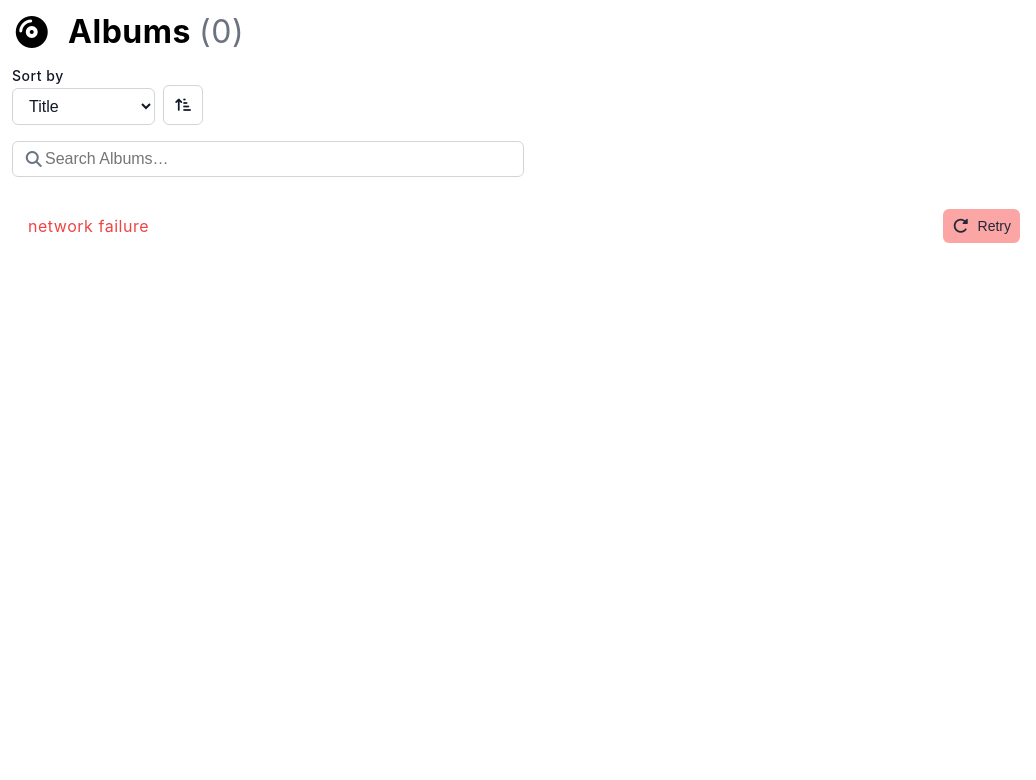
Test: AlbumsView › shows an error banner with a retry button
The image size is (1036, 780).
Click the button named "Ascending" at (183, 105), box [163,85,203,125]
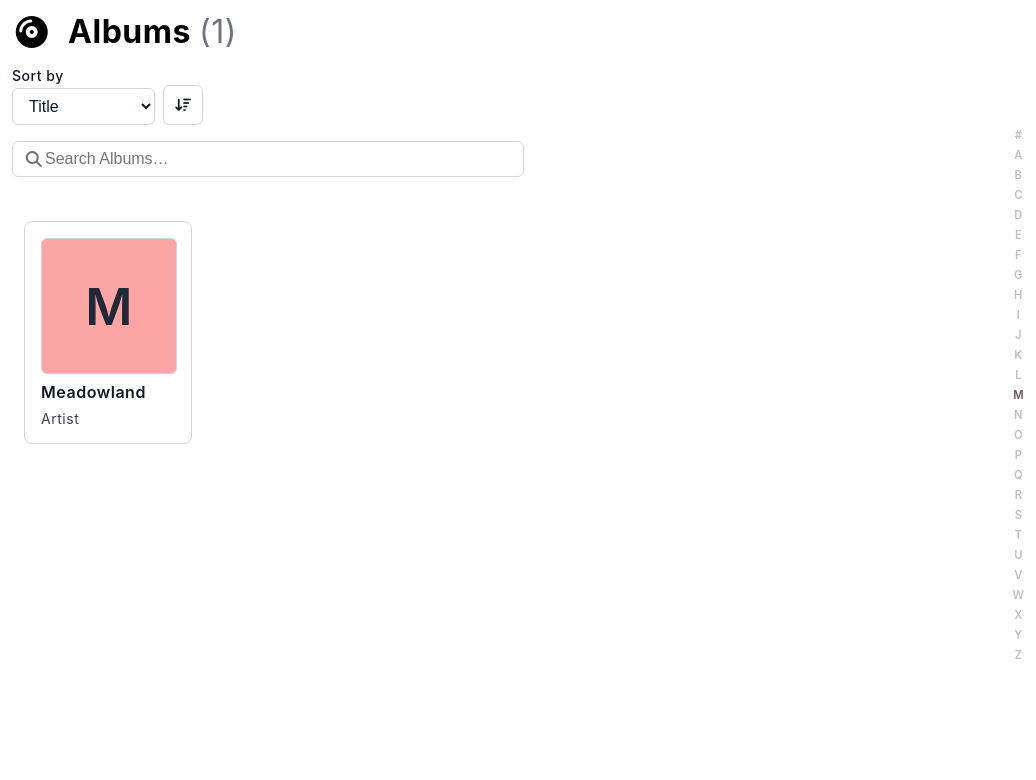
Expected: the text "Meadowland" is shown, [41,382,146,402]
Expected: the text "network failure" is gone
